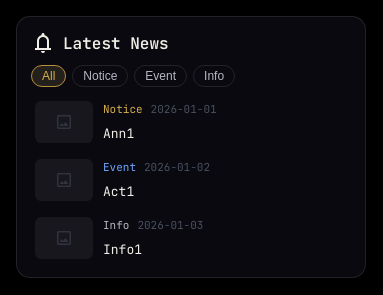
NewsPanel › renders items and filters by category
The width and height of the screenshot is (383, 295).
What coordinates should you click on to do the following:
click the button "Notice"
I would click on:
 (100, 76)
Its box is [72, 65, 128, 87].
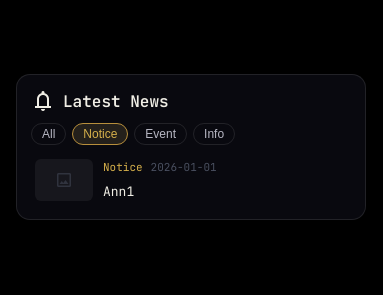
Expected: the text "Ann1" is shown, [103, 183, 134, 200]
Expected: the text "Act1" is gone
Expected: the text "Info1" is gone
What coordinates should you click on to do the following:
click the button "Info"
I would click on:
 (214, 134)
Its box is [193, 123, 235, 145].
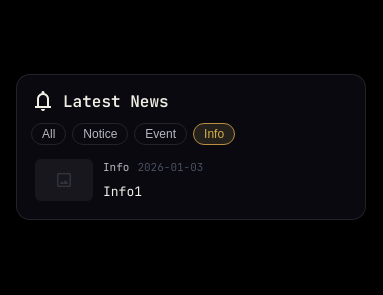
Expected: the text "Act1" is not shown
Expected: the text "Info1" is shown, [103, 183, 142, 200]
Expected: the text "Ann1" is gone
